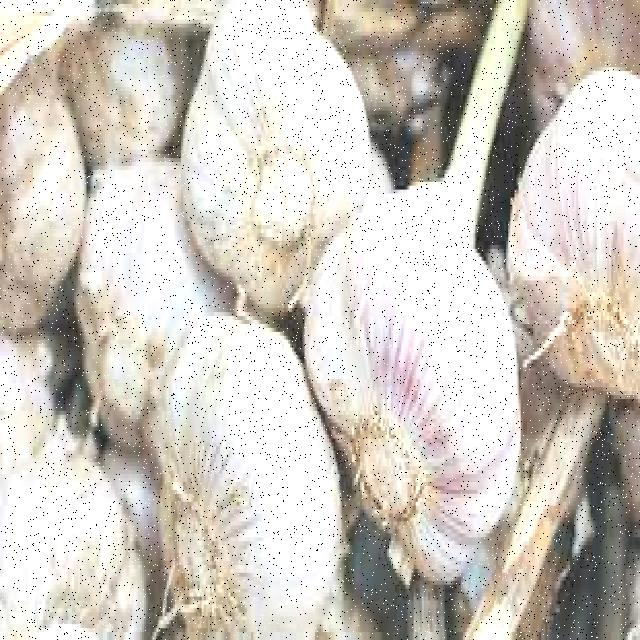Garlic: (307, 128, 534, 580), (151, 14, 408, 367), (123, 306, 380, 640), (475, 40, 640, 399)
